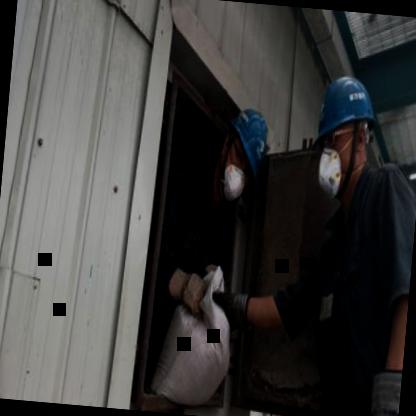helmet: (305, 61, 386, 203), (212, 91, 272, 241)
